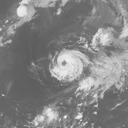cyclone: (48, 49, 91, 84)
